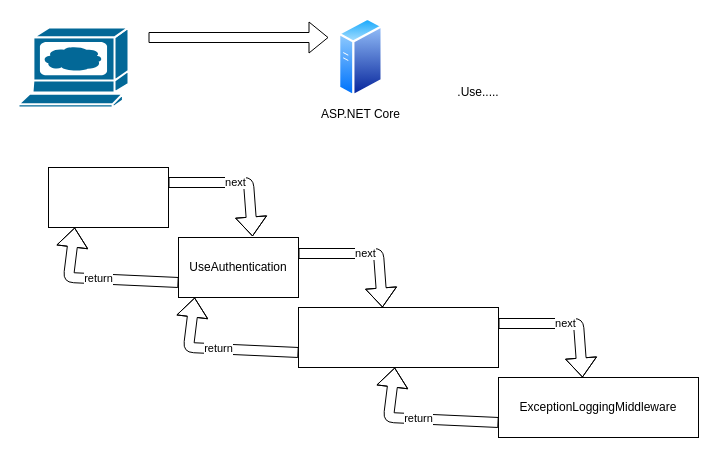
The diagram is 716 pixels wide and 455 high, and some of its shapes have lost their labels. Each missing label, with the box of its shape:
UseDeveloperExceptionPage: (298, 306, 498, 368)
UseStaticFiles: (48, 166, 168, 228)
